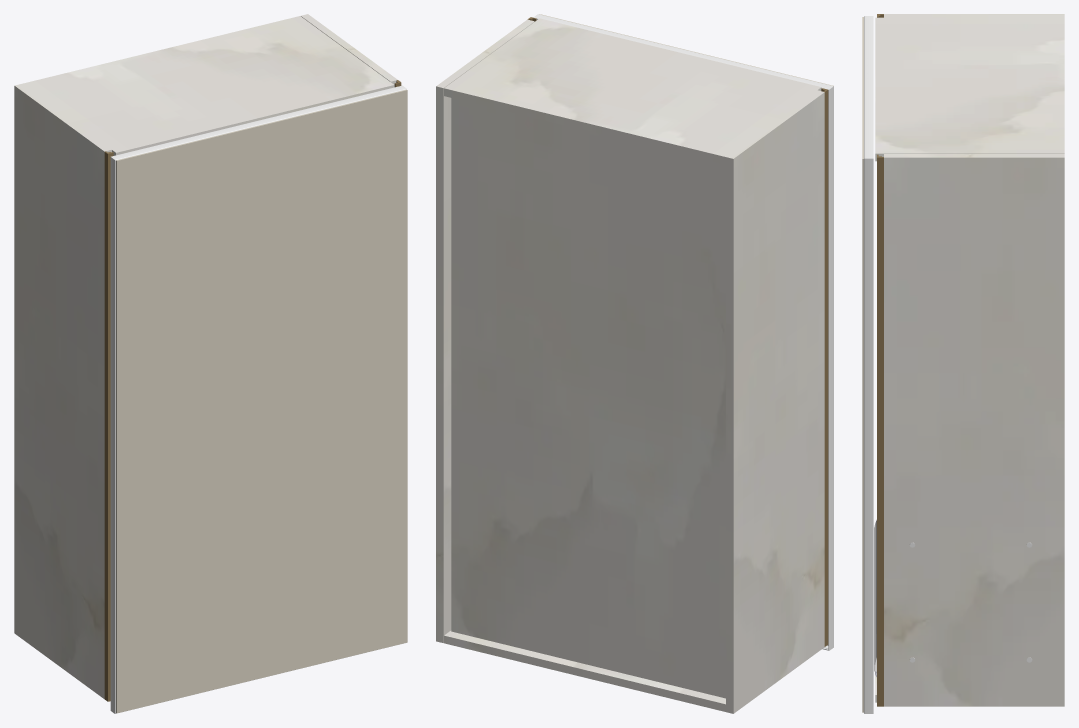
Rendered from WDC2GS1HS_RH (H1085xW600xD336).glb.
3 views of the same model, side by side, from view 1: azimuth 30°, elevation 25°; view 2: azimuth 150°, elevation 25°; view 3: azimuth 270°, elevation 25° (orthographic).
Size of what is drawn, in the model's own units: 0.601 by 1.09 by 0.3569.
Materials: 11 (2 with a texture image).
